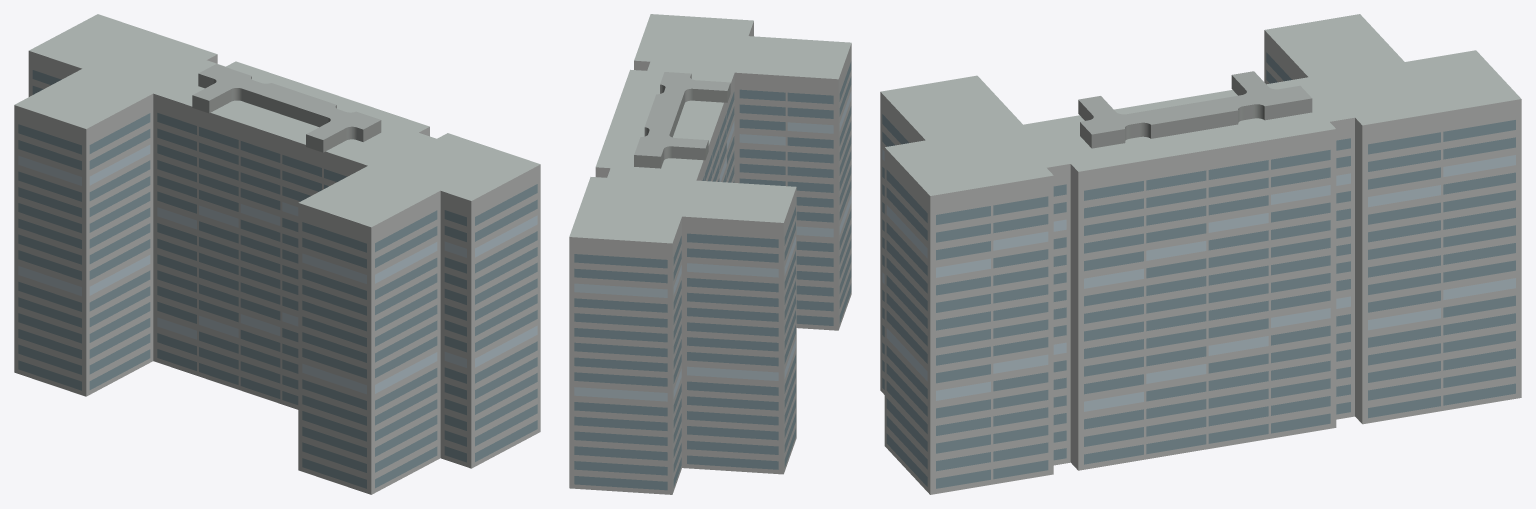
The model's file is apt-a13508002.glb.
3 views of the same model, side by side, from view 1: azimuth 30°, elevation 25°; view 2: azimuth 150°, elevation 25°; view 3: azimuth 270°, elevation 25° (orthographic). The views are drawn at different scales.
Visible parts, largest first — view 1: apt-a13508002; view 2: apt-a13508002; view 3: apt-a13508002.
Boxes of the visible parts, <box> form: apt-a13508002: <box>14,14,540,494</box>; apt-a13508002: <box>569,14,851,494</box>; apt-a13508002: <box>880,14,1521,494</box>.
Size of the model in its own units: 59.9 by 48 by 89.12.
